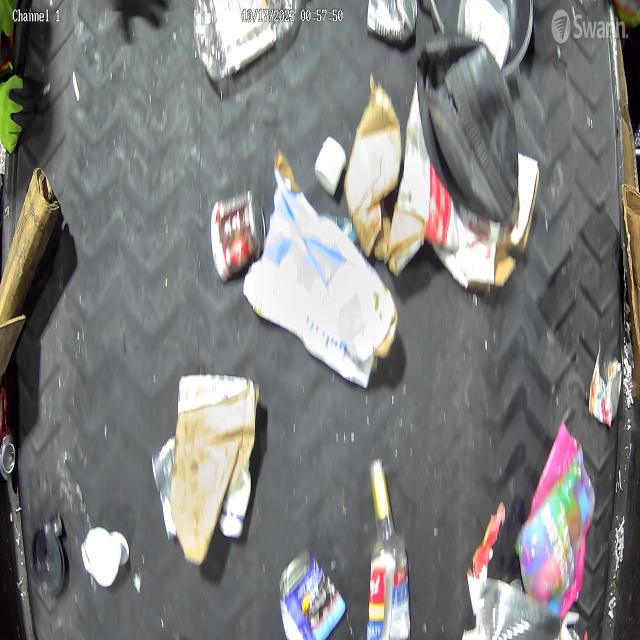can: (278, 552, 342, 640), (210, 187, 263, 280), (589, 350, 621, 428), (367, 0, 417, 42), (0, 384, 15, 480)
plastic_bottle: (364, 461, 412, 640)
